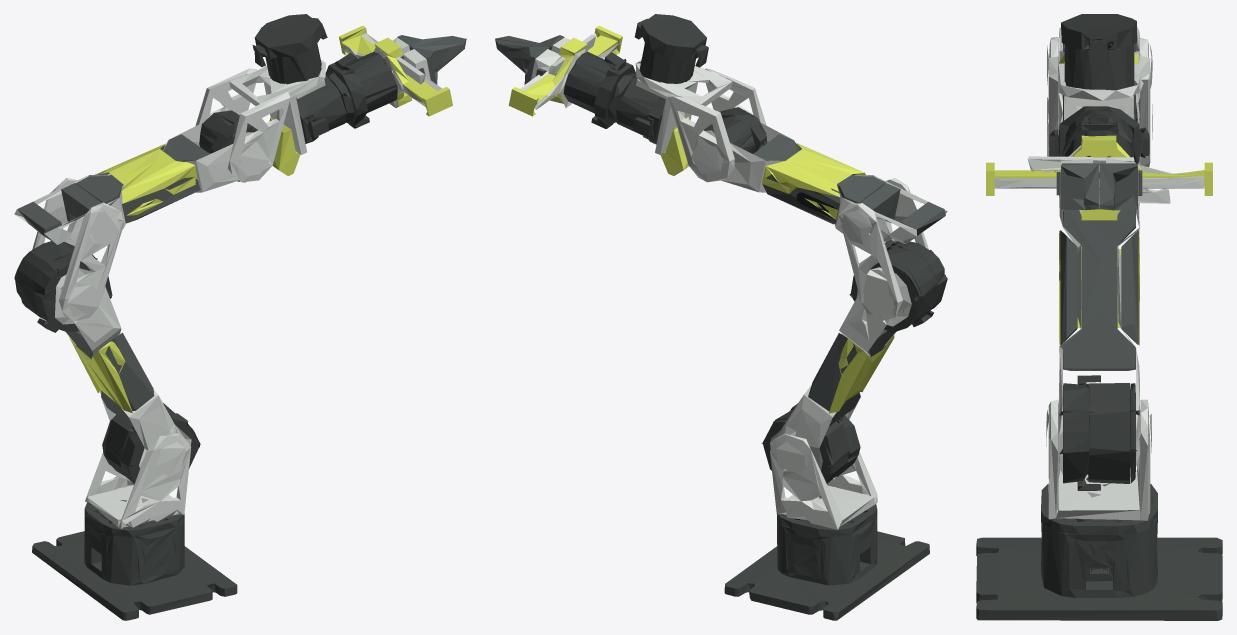
File: rebot.glb
3 views of the same model, side by side, from view 1: azimuth 30°, elevation 25°; view 2: azimuth 150°, elevation 25°; view 3: azimuth 270°, elevation 25° (orthographic). The views are drawn at different scales.
Size of the model in its own units: 1.79 by 1.99 by 0.6686.
